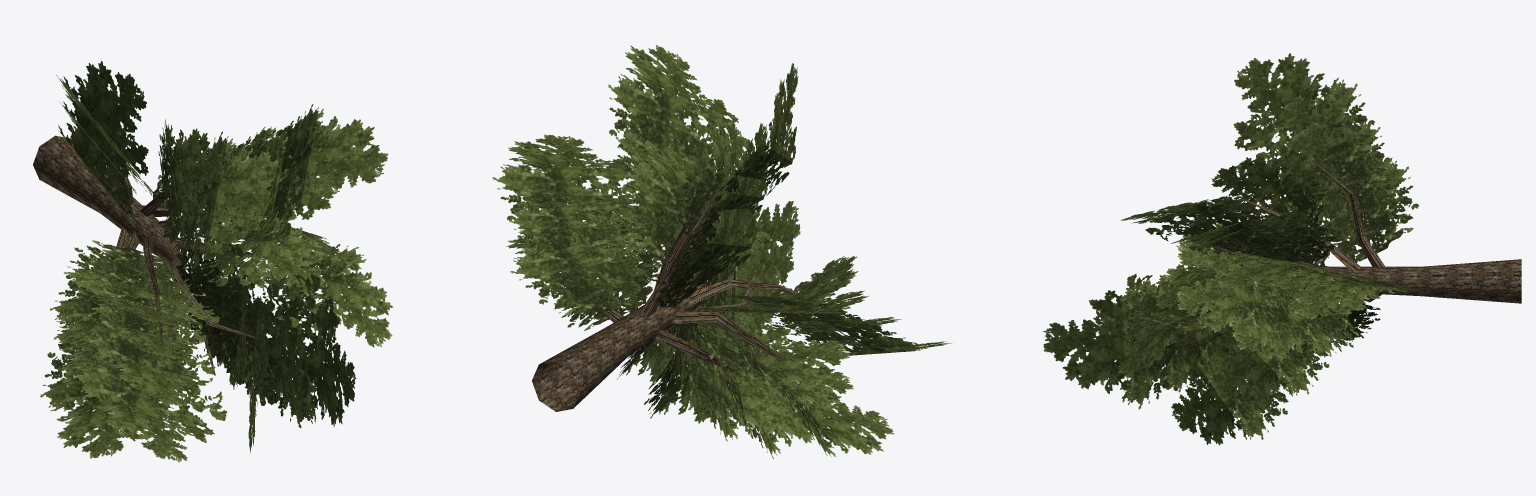
Rendered from acacia_bb1.obj.
The picture shows the model from 3 angles, left to right: view 1: azimuth 30°, elevation 25°; view 2: azimuth 150°, elevation 25°; view 3: azimuth 270°, elevation 25°; orthographic projection. The views are drawn at different scales.
Visible parts, largest first — view 1: plant_pmat3, plant_pmat1, plant_pmat2; view 2: plant_pmat3, plant_pmat1, plant_pmat2; view 3: plant_pmat3, plant_pmat1, plant_pmat2.
Part boxes in pixels (<box>): plant_pmat3: <box>40,61,393,462</box>; plant_pmat1: <box>33,135,183,266</box>; plant_pmat2: <box>103,144,305,375</box>; plant_pmat3: <box>492,45,953,458</box>; plant_pmat1: <box>532,283,707,411</box>; plant_pmat2: <box>584,185,824,371</box>; plant_pmat3: <box>1043,53,1422,445</box>; plant_pmat1: <box>1303,259,1521,303</box>; plant_pmat2: <box>1175,164,1391,345</box>.
Size of the model in its own units: 7.43 by 7.81 by 8.3.
